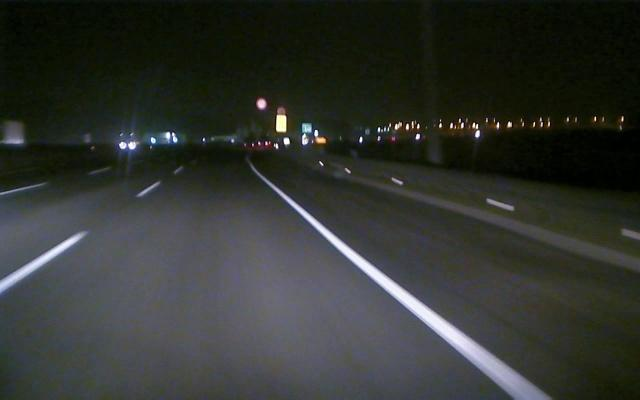lane: (261, 176, 553, 398), (1, 185, 156, 293), (0, 167, 111, 196)
